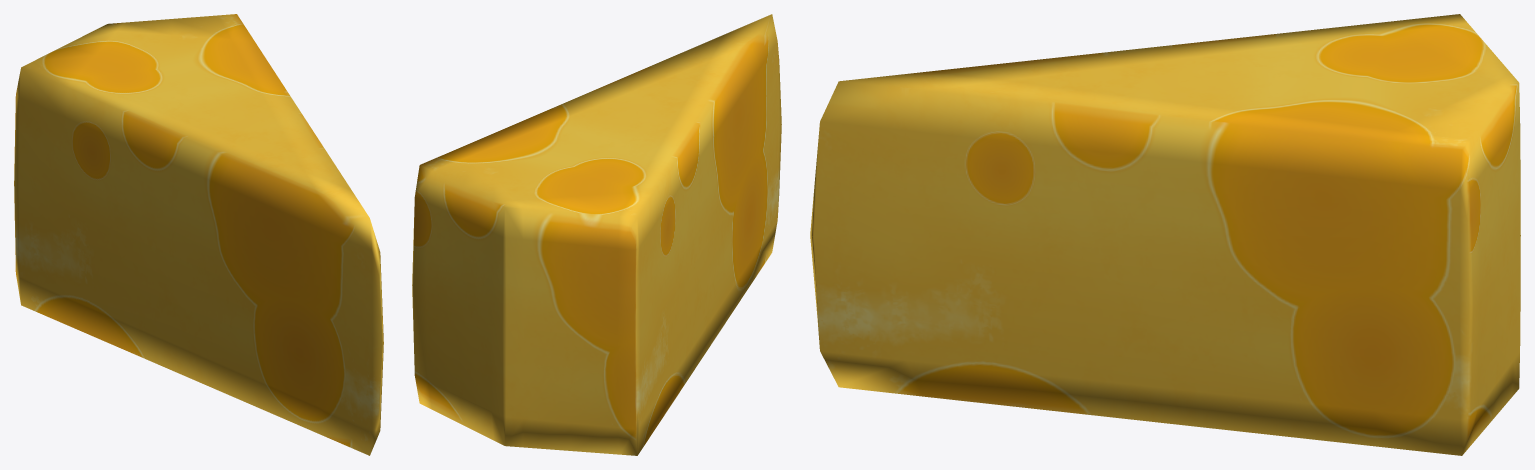
Rendered from finalcheese.fbx.
The picture shows the model from 3 angles, left to right: view 1: azimuth 30°, elevation 25°; view 2: azimuth 150°, elevation 25°; view 3: azimuth 270°, elevation 25°; orthographic projection. The views are drawn at different scales.
Parts seen in each view (by area): view 1: pCube1; view 2: pCube1; view 3: pCube1.
Boxes of the visible parts, x1,y1,x2,y2 form: pCube1: (14,14,383,455); pCube1: (412,14,781,455); pCube1: (810,14,1520,455).
Size of the model in its own units: 3.28 by 3.32 by 6.99.
Materials: 1 (1 with a texture image).
